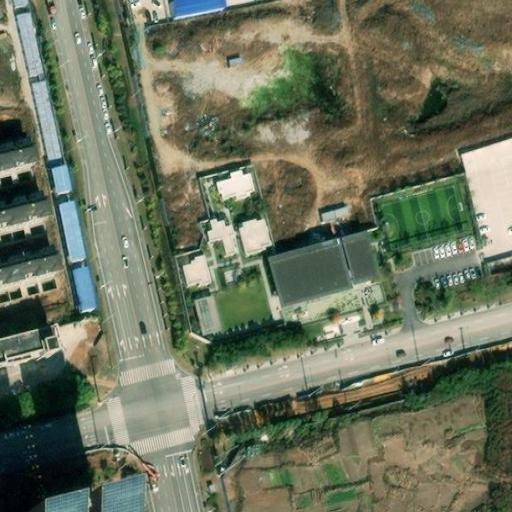building: (264, 230, 375, 305), (455, 134, 512, 271), (29, 88, 65, 166), (0, 327, 61, 369), (0, 253, 57, 294), (197, 214, 239, 262), (96, 476, 150, 512), (56, 206, 87, 267), (13, 20, 43, 82), (211, 163, 258, 201), (233, 213, 273, 256), (0, 198, 44, 234), (177, 249, 213, 289), (192, 290, 222, 335), (0, 143, 35, 178), (71, 275, 96, 320), (316, 202, 352, 225), (49, 174, 70, 199)
